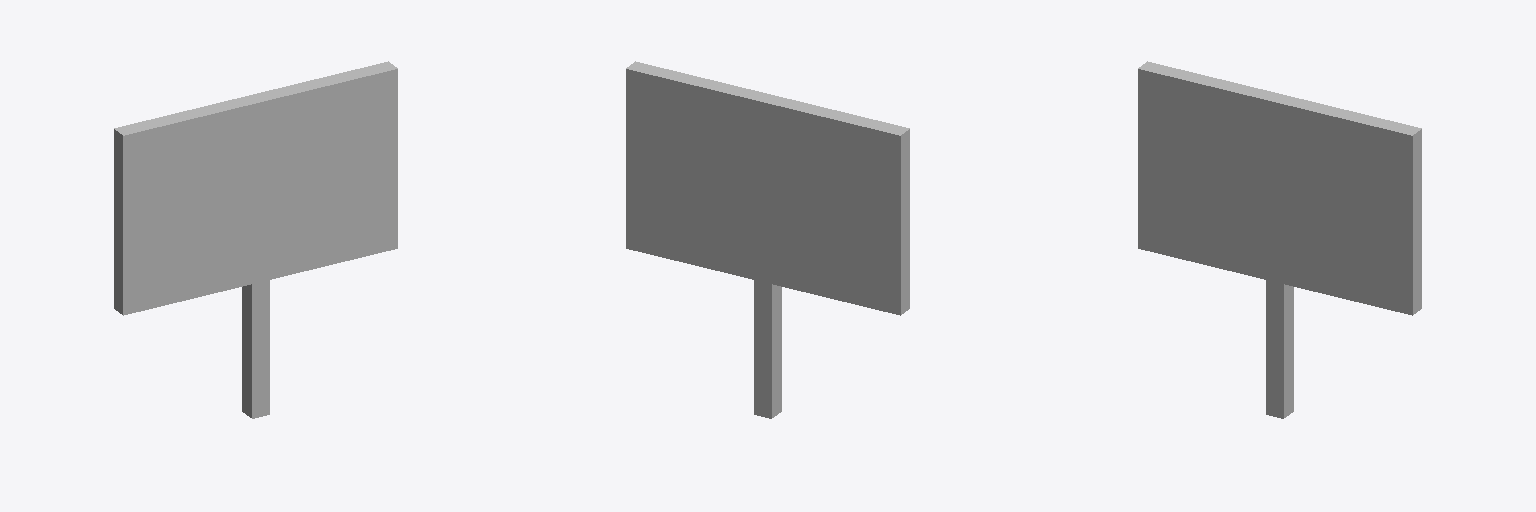
The model's file is Sign.obj.
3 views of the same model, side by side, from view 1: azimuth 30°, elevation 25°; view 2: azimuth 150°, elevation 25°; view 3: azimuth 330°, elevation 25° (orthographic).
Visible parts, largest first — view 1: object 1; view 2: object 1; view 3: object 1.
Boxes of the visible parts, x1,y1,x2,y2 form: object 1: [114, 61, 397, 418]; object 1: [626, 61, 909, 418]; object 1: [1138, 61, 1421, 418].
Bounding box in the file's own units: 3.2 × 3.5 × 0.2.